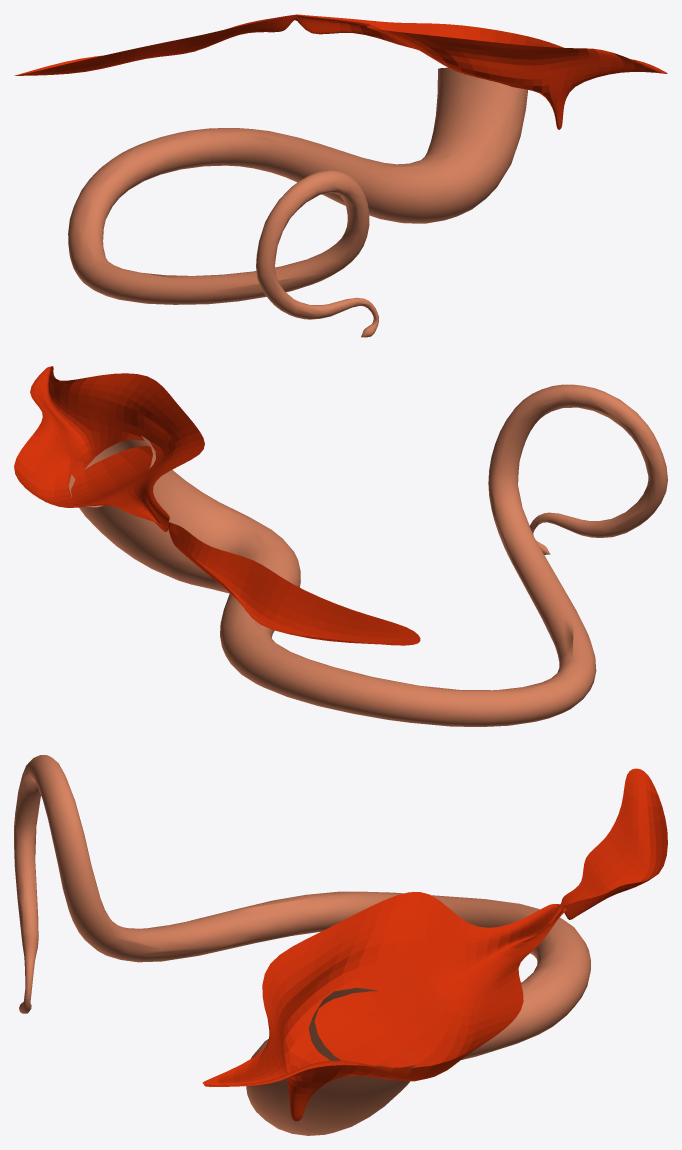
Rendered from Roots_02.fbx.
The picture shows the model from 3 angles, top to bottom: view 1: azimuth 30°, elevation 25°; view 2: azimuth 150°, elevation 25°; view 3: azimuth 270°, elevation 25°; orthographic projection. The views are drawn at different scales.
Parts seen in each view (by area): view 1: Root_02_LOD0, Gravel_2_LOD0; view 2: Root_02_LOD0, Gravel_2_LOD0; view 3: Gravel_2_LOD0, Root_02_LOD0.
Boxes of the visible parts, <box> form: Root_02_LOD0: <box>68,67,527,337</box>; Gravel_2_LOD0: <box>14,14,667,129</box>; Root_02_LOD0: <box>68,384,667,726</box>; Gravel_2_LOD0: <box>14,366,420,645</box>; Gravel_2_LOD0: <box>202,768,667,1121</box>; Root_02_LOD0: <box>14,755,590,1135</box>.
Size of what is drawn, in the model's own units: 4418 by 1390 by 3559.
